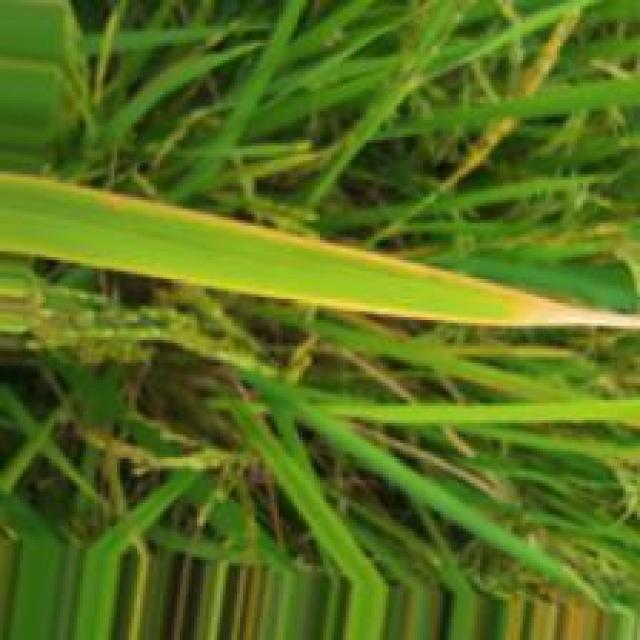Rice False Smut: (505, 294, 627, 326)
